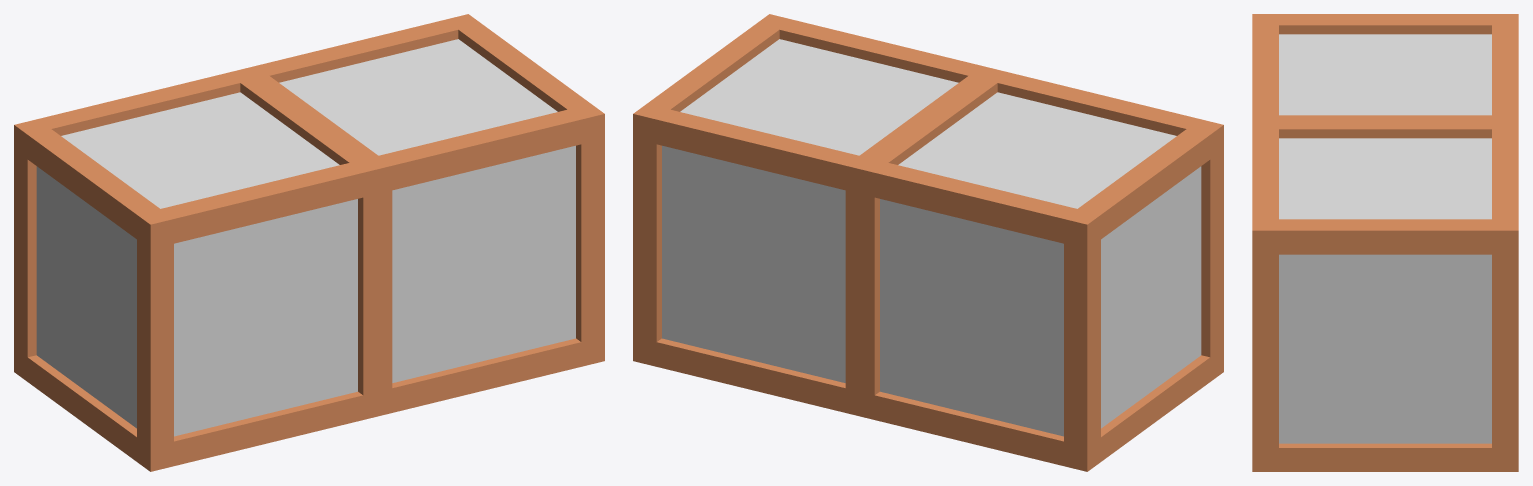
The model's file is kiste-big.fbx.
The picture shows the model from 3 angles, left to right: view 1: azimuth 30°, elevation 25°; view 2: azimuth 150°, elevation 25°; view 3: azimuth 270°, elevation 25°; orthographic projection. The views are drawn at different scales.
Parts seen in each view (by area): view 1: Cube.001, Cube.002; view 2: Cube.001, Cube.002; view 3: Cube.001, Cube.002.
Part boxes in pixels (bbox=[...]): Cube.001: bbox=[14, 14, 604, 471]; Cube.002: bbox=[15, 68, 386, 471]; Cube.001: bbox=[633, 14, 1223, 471]; Cube.002: bbox=[851, 67, 1222, 467]; Cube.001: bbox=[1252, 14, 1518, 471]; Cube.002: bbox=[1252, 14, 1518, 124].
Bounding box in the file's own units: 154 × 80 × 80.
